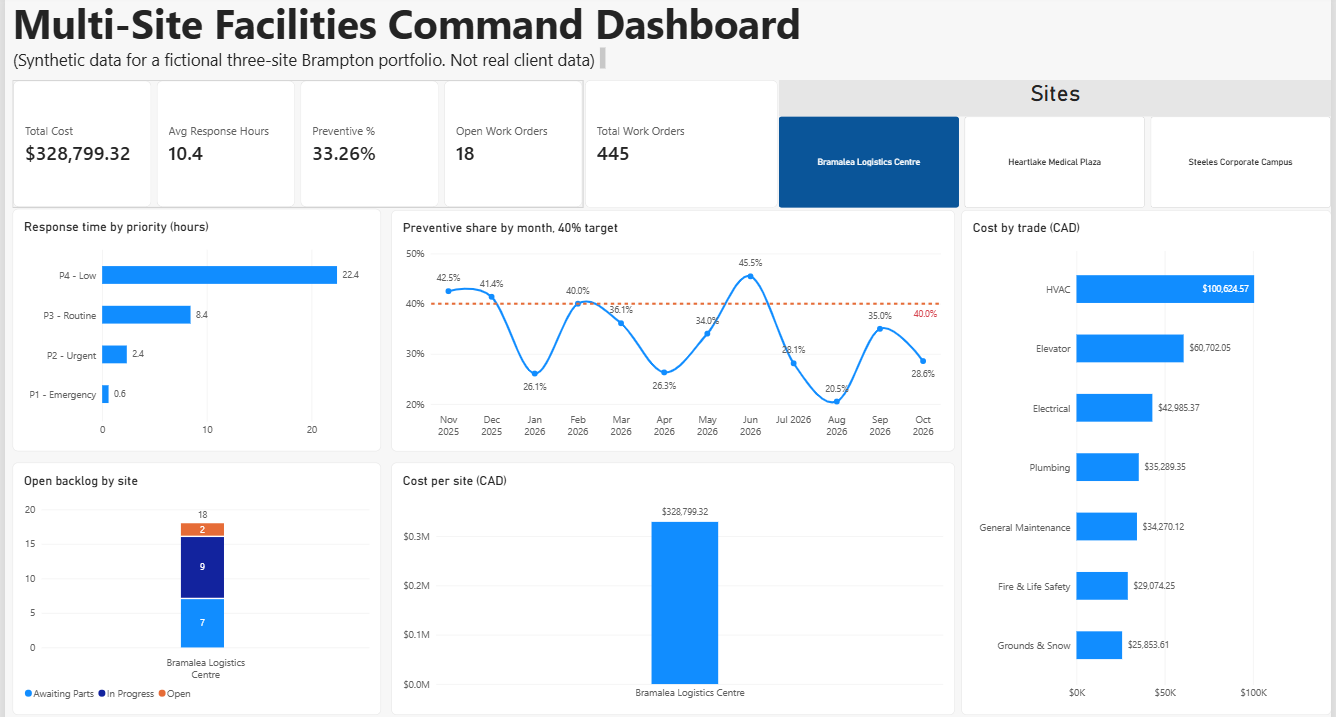

This screenshot's page, from the dashboard's own definition file:
{"tool":"powerbi","page":{"name":"Page 1","canvas":[1920,1080],"ordinal":0},"visuals":[{"type":"cardVisual","fields":{"Data":["WorkOrders.Total Work Orders"]},"box":[839.8,123.5,279.9,185.2],"z":0},{"type":"cardVisual","fields":{"Data":["WorkOrders.Total Cost","WorkOrders.Avg Response Hours","WorkOrders.Preventive %","WorkOrders.Open Work Orders"]},"box":[10.3,123.5,829.5,185.2],"z":1000},{"type":"clusteredBarChart","title":"Response time by priority (hours)","fields":{"Category":["WorkOrders.priority"],"Y":["WorkOrders.Avg Response Hours"]},"box":[10.9,309.5,533.8,351.1],"z":2000},{"type":"columnChart","title":"Open backlog by site","fields":{"Category":["WorkOrders.site"],"Series":["WorkOrders.status"],"Y":["WorkOrders.Open Work Orders"]},"box":[10.9,676.8,533.8,365.6],"z":3000},{"type":"lineChart","title":"Preventive share by month, 40% target","fields":{"Category":["Calendar.Month"],"Y":["WorkOrders.Preventive %"]},"box":[559.2,311.3,816.2,349.3],"z":4000},{"type":"clusteredColumnChart","title":"Cost per site (CAD)","fields":{"Category":["WorkOrders.site"],"Y":["WorkOrders.Total Cost"]},"box":[559.2,676.8,816.2,365.6],"z":5000},{"type":"clusteredBarChart","title":"Cost by trade (CAD)","fields":{"Category":["WorkOrders.trade"],"Y":["WorkOrders.Total Cost"]},"box":[1384.4,311.3,535.7,731.1],"z":6000},{"type":"advancedSlicerVisual","fields":{"Values":["WorkOrders.site"]},"box":[1119.7,123.5,800.7,185.2],"z":7000},{"type":"textbox","box":[10.3,0,1183.5,150.3],"z":7001},{"type":"textbox","box":[10.3,76.2,858.3,30.9],"z":7002}]}

Visuals, with their boxes on the page's 1920x1080 design canvas (x1, y1, x2, y2). These are canvas units, not pixel positions in the 1336x717 screenshot, which may show the page scaled, cropped or inside an application window:
cardVisual - WorkOrders.Total Work Orders: <box>840,124,1120,309</box>
cardVisual - WorkOrders.Total Cost x WorkOrders.Avg Response Hours: <box>10,124,840,309</box>
"Response time by priority (hours)" clusteredBarChart: <box>11,310,545,661</box>
"Open backlog by site" columnChart: <box>11,677,545,1042</box>
"Preventive share by month, 40% target" lineChart: <box>559,311,1375,661</box>
"Cost per site (CAD)" clusteredColumnChart: <box>559,677,1375,1042</box>
"Cost by trade (CAD)" clusteredBarChart: <box>1384,311,1920,1042</box>
advancedSlicerVisual - WorkOrders.site: <box>1120,124,1920,309</box>
textbox: <box>10,0,1194,150</box>
textbox: <box>10,76,869,107</box>
